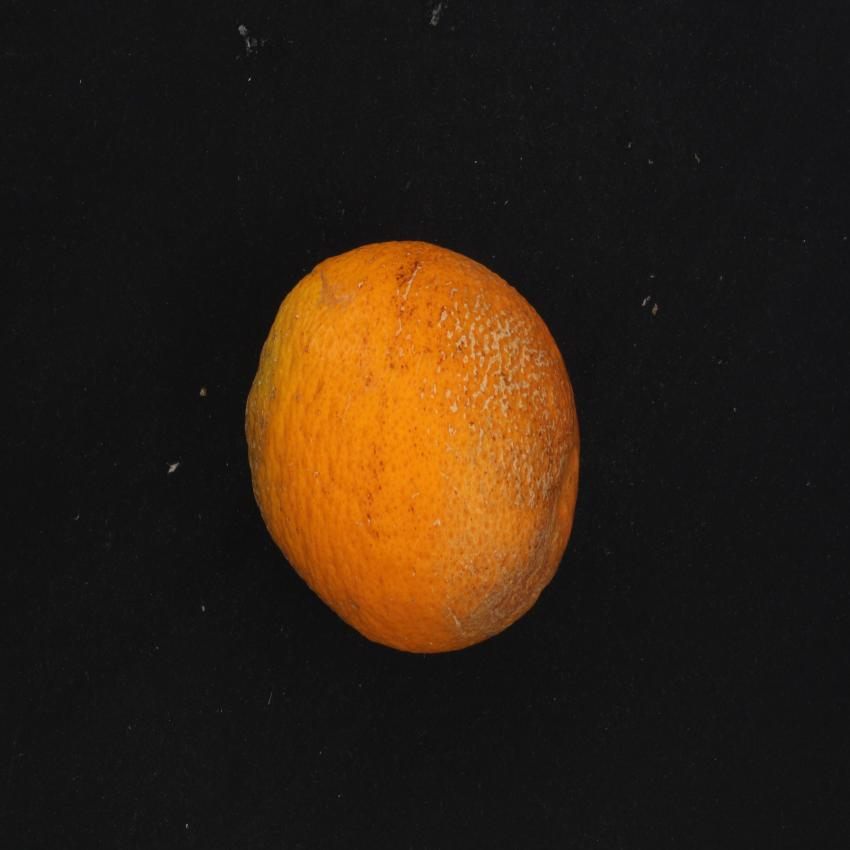Mal estado: (234, 228, 594, 670)
